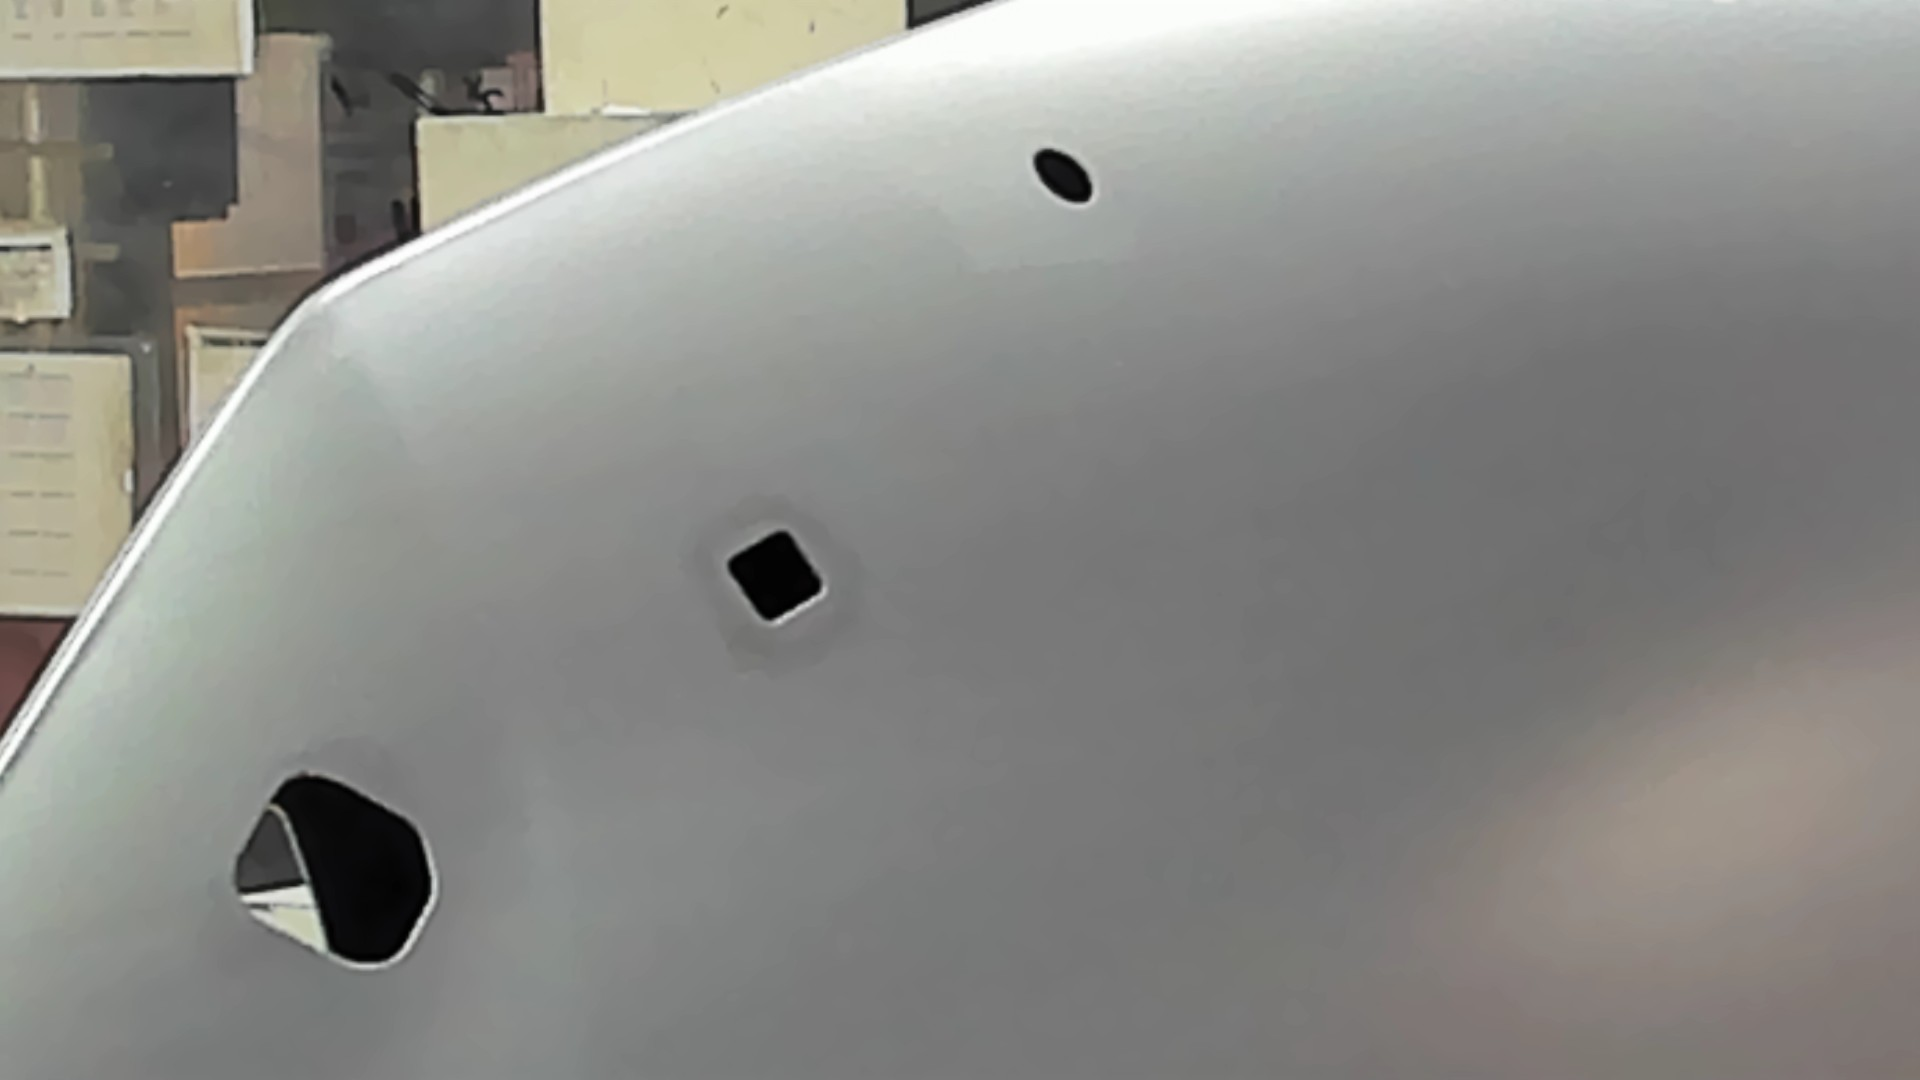chico: (1027, 142, 1098, 204)
grande: (232, 765, 440, 975)
mediano: (727, 525, 829, 630)
